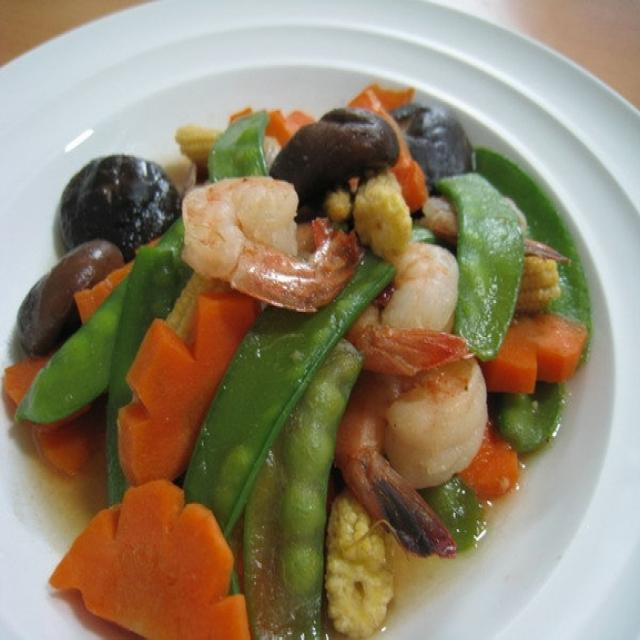蔬菜料理: (14, 61, 604, 628)
